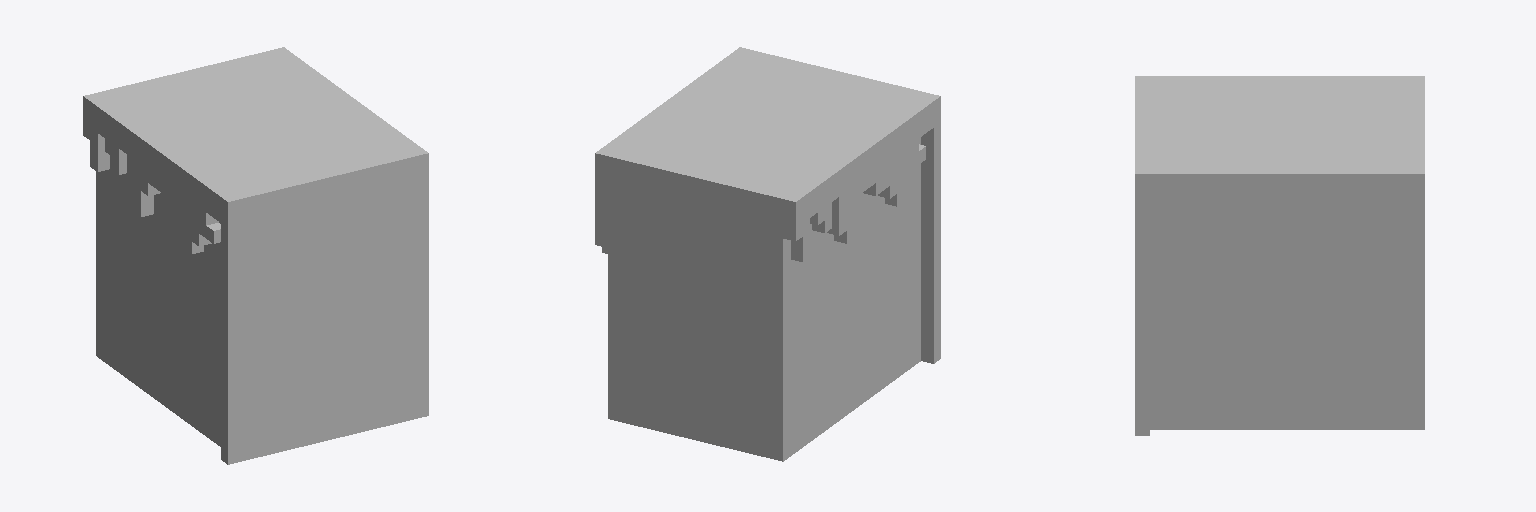
File: sueloPlataform-1.obj
The picture shows the model from 3 angles: view 1: azimuth 30°, elevation 25°; view 2: azimuth 150°, elevation 25°; view 3: azimuth 270°, elevation 25°; orthographic projection.
Visible parts, largest first — view 1: object 1; view 2: object 1; view 3: object 1.
Boxes of the visible parts, <box> form: object 1: <box>83,47,428,464</box>; object 1: <box>595,47,940,461</box>; object 1: <box>1135,76,1424,435</box>.
Bounding box in the file's own units: 1.6 × 2 × 2.